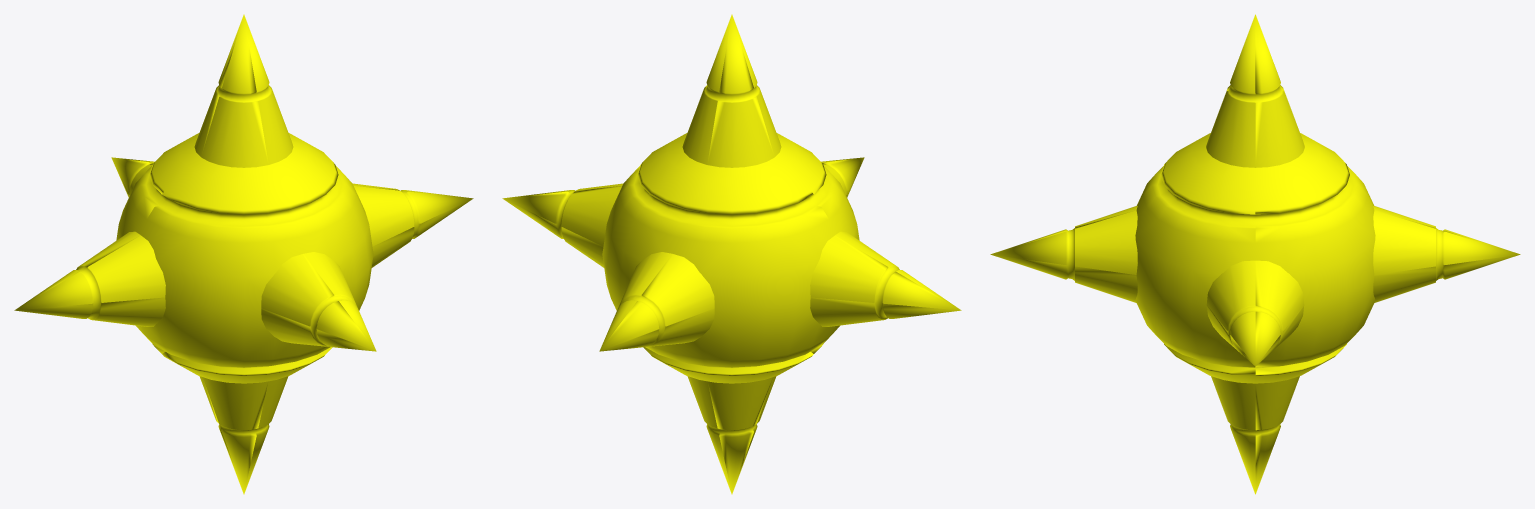
File: spikeball.glb
3 renders of one model, left to right at view 1: azimuth 30°, elevation 25°; view 2: azimuth 150°, elevation 25°; view 3: azimuth 270°, elevation 25°, orthographic.
Parts seen in each view (by area): view 1: Mesh; view 2: Mesh; view 3: Mesh.
Boxes of the visible parts, x1,y1,x2,y2 form: Mesh: (14,14,473,494); Mesh: (502,14,961,494); Mesh: (990,14,1520,494).
Bounding box in the file's own units: 4.09 × 4.09 × 4.09.
